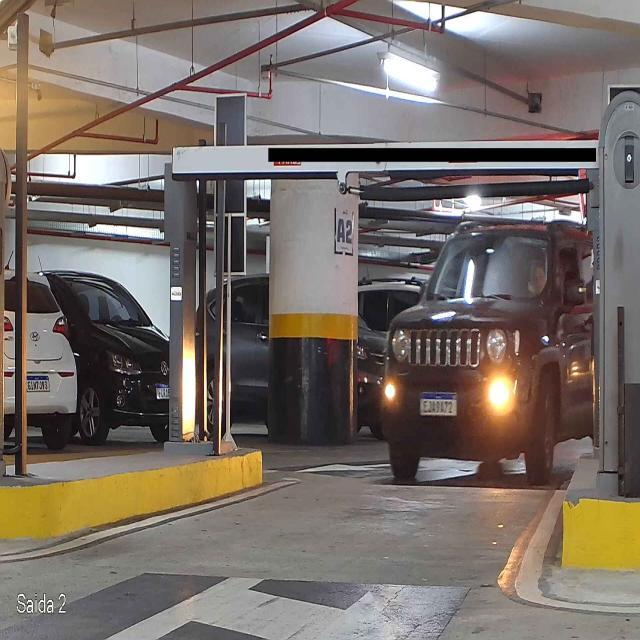mercosul_plate: (419, 392, 459, 418)
